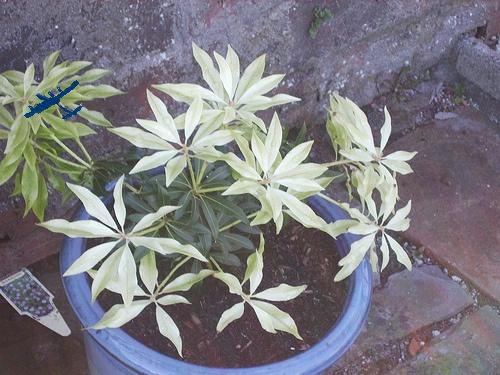tampered: (25, 81, 83, 119)
